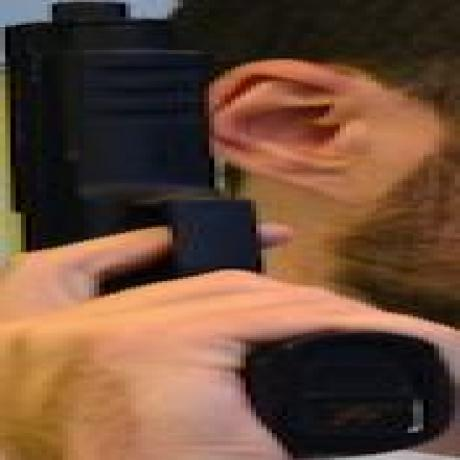1: (17, 6, 459, 460)
weapon: (3, 0, 283, 300)
